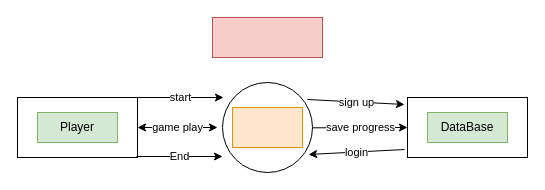
Image size: 545x190. Some labels were removed from this diagram. Here are the shapes that lost their labels. From the top down, the centre of each, then its label:
At (267,37): "DFD Level 0".
At (267,127): "Game Manager".
